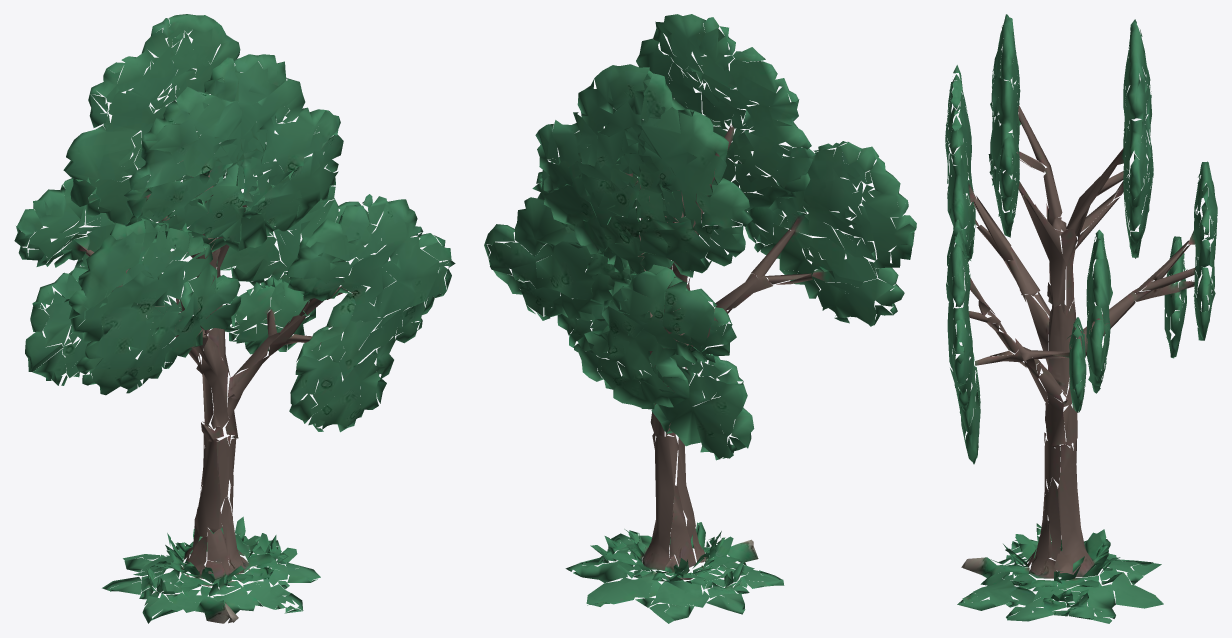
File: tree_b.glb
3 renders of one model, left to right at view 1: azimuth 30°, elevation 25°; view 2: azimuth 150°, elevation 25°; view 3: azimuth 270°, elevation 25°, orthographic. The views are drawn at different scales.
Visible parts, largest first — view 1: tripo_node_267d2d19-67bc-431f-84d7-b89b6b72a3c4; view 2: tripo_node_267d2d19-67bc-431f-84d7-b89b6b72a3c4; view 3: tripo_node_267d2d19-67bc-431f-84d7-b89b6b72a3c4.
Part boxes in pixels (x1,y1,x2,y2): tripo_node_267d2d19-67bc-431f-84d7-b89b6b72a3c4: (14,14,455,623); tripo_node_267d2d19-67bc-431f-84d7-b89b6b72a3c4: (484,14,916,623); tripo_node_267d2d19-67bc-431f-84d7-b89b6b72a3c4: (945,14,1217,623).
Size of the model in its own units: 0.736 by 1 by 0.436.
1 material, 1 textured.
